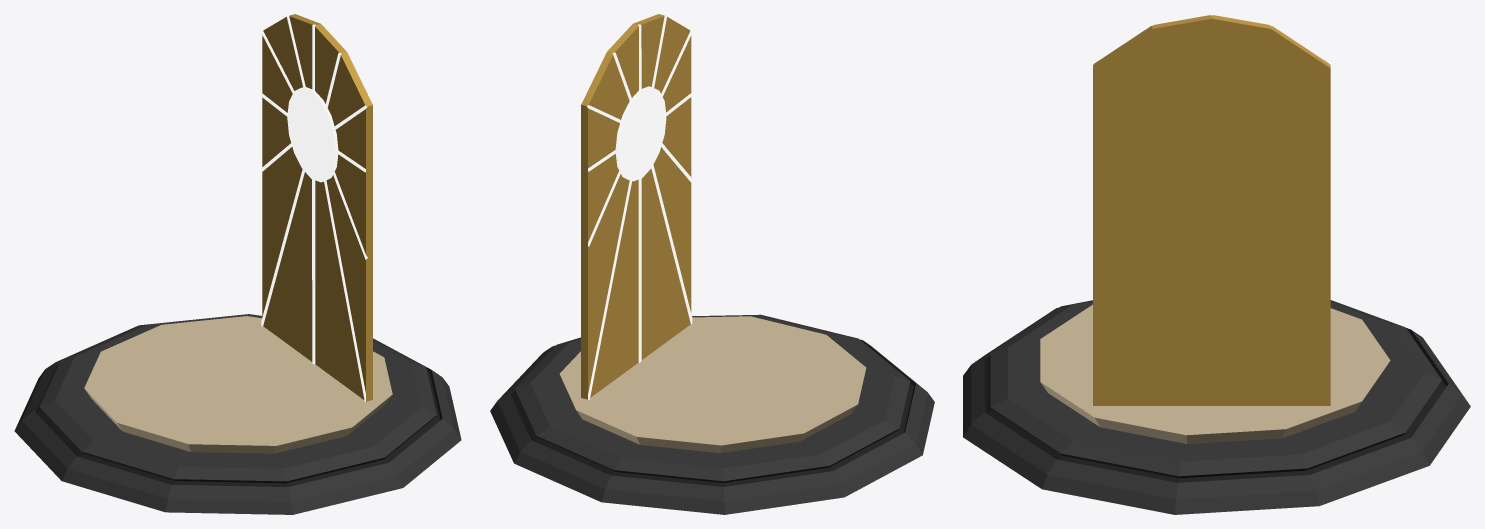
Rendered from DnN Statue.glb.
3 renders of one model, left to right at view 1: azimuth 30°, elevation 25°; view 2: azimuth 150°, elevation 25°; view 3: azimuth 270°, elevation 25°, orthographic. The views are drawn at different scales.
Visible parts, largest first — view 1: Cylinder, Cube; view 2: Cylinder, Cube; view 3: Cube, Cylinder.
Boxes of the visible parts, left/top/right/bottom form: Cylinder: left=14, top=314, right=461, bottom=514; Cube: left=261, top=14, right=372, bottom=401; Cylinder: left=490, top=314, right=934, bottom=514; Cube: left=581, top=14, right=692, bottom=399; Cube: left=1091, top=14, right=1331, bottom=405; Cylinder: left=963, top=300, right=1470, bottom=514.
Size of the model in its own units: 1.53 by 1.43 by 1.52.
